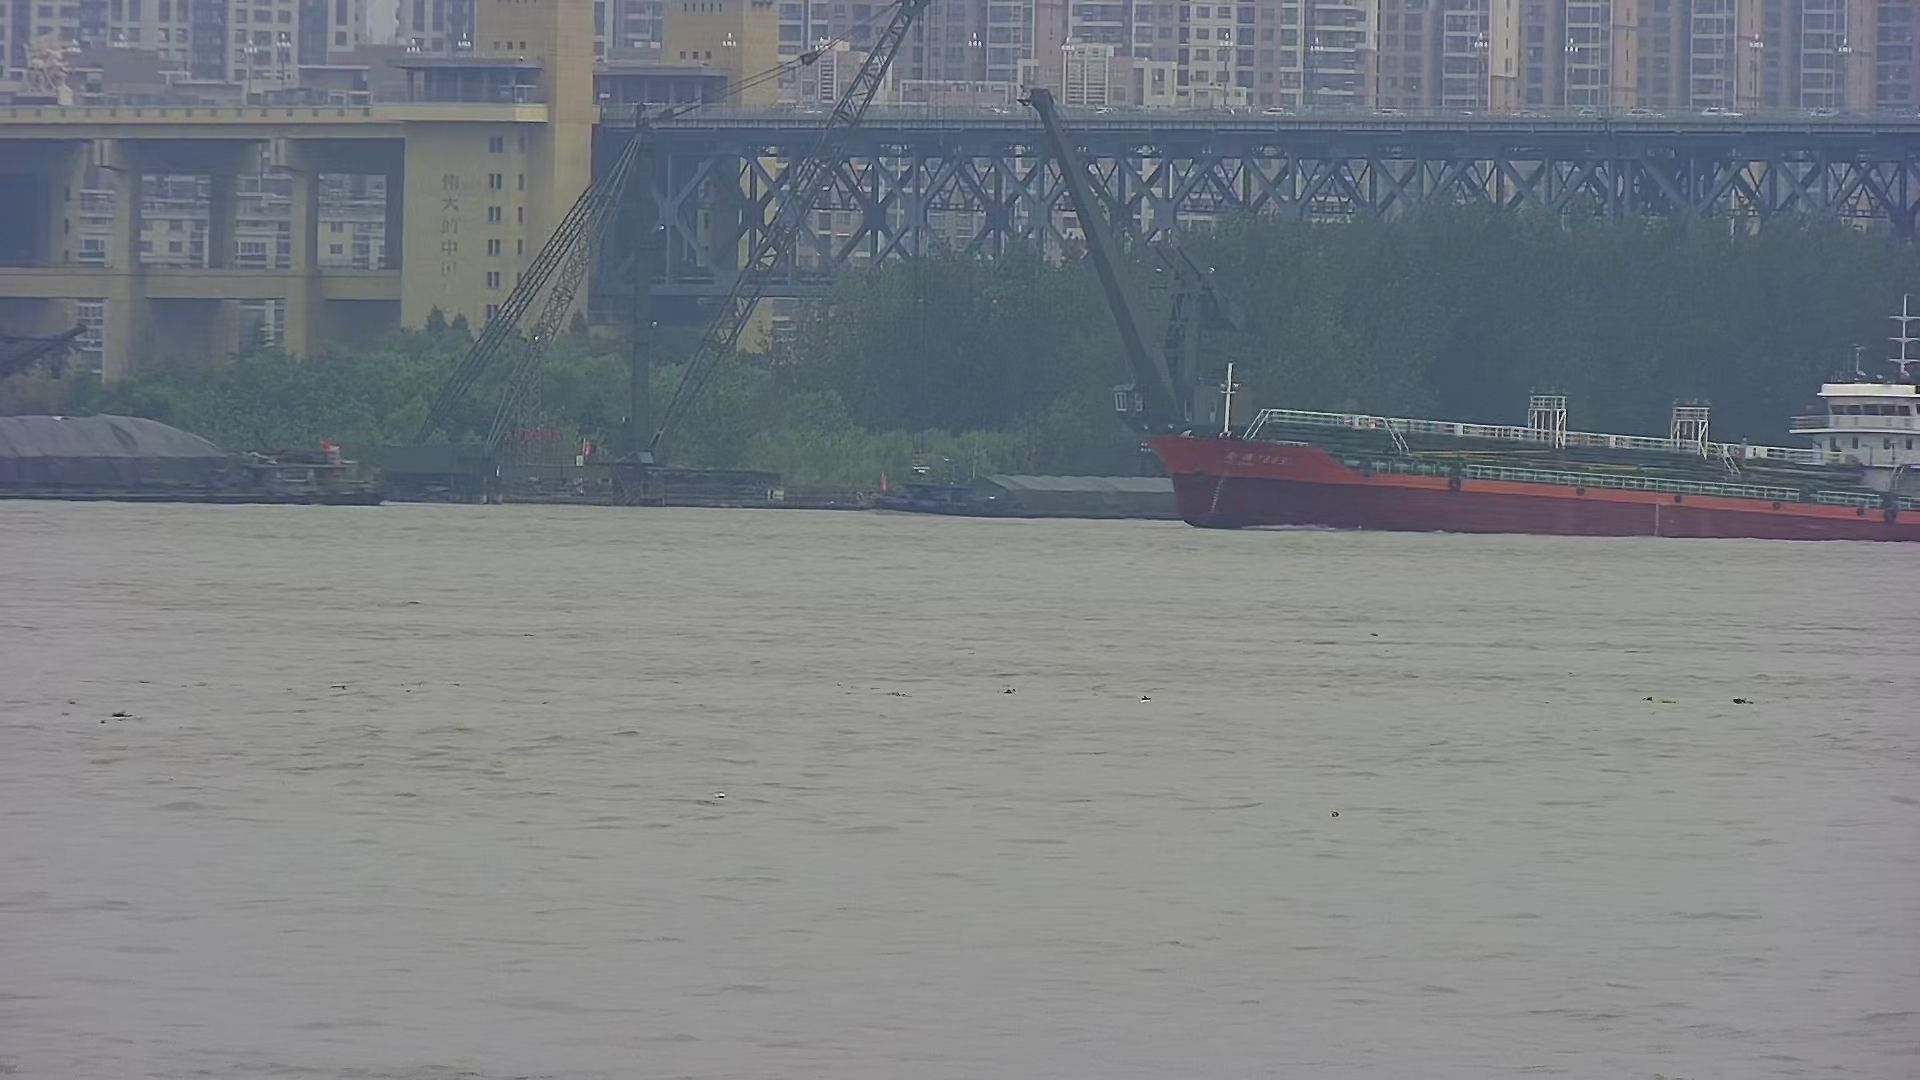harbor: (3, 410, 392, 506)
ship: (1114, 294, 1917, 553)
